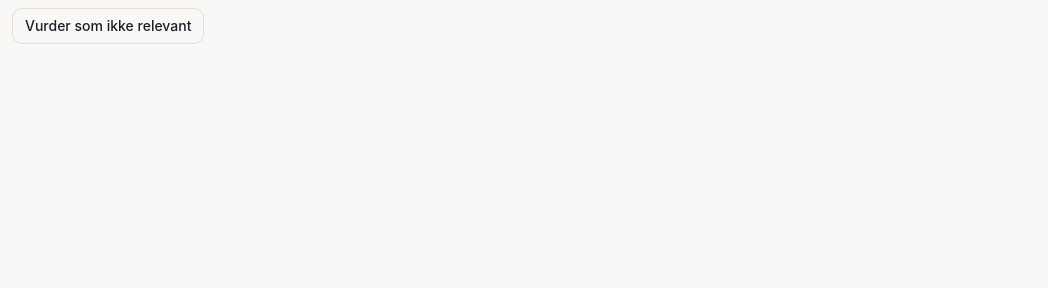
Test: Relevance assessment admin action › retains the form after an error for retry
Later steps or results of the test are not shown.
Click the button "Vurder som ikke relevant" at (108, 26), box [12,8,204,44]
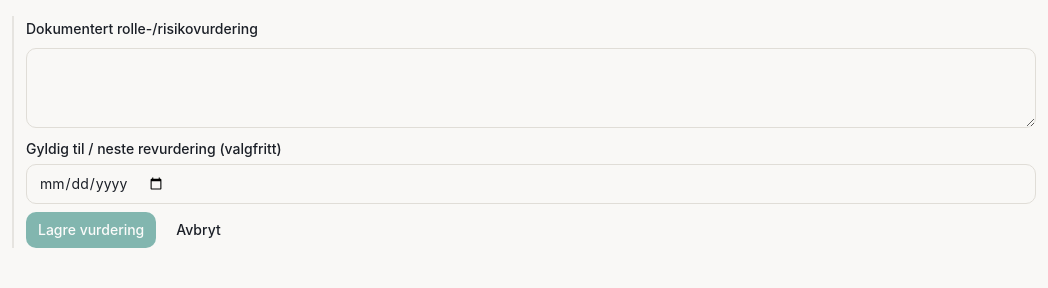
Type "Vurdering" into the text box labelled "Dokumentert rolle-/risikovurdering" at (531, 88), box [26,48,1036,128]
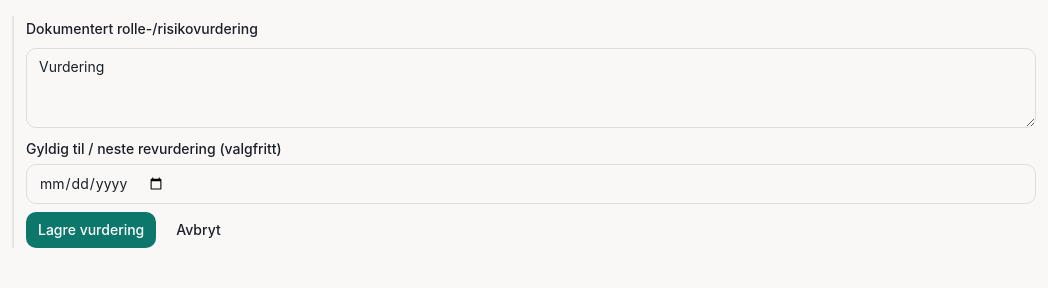
Click the button "Lagre vurdering" at (91, 230), box [26,212,156,248]
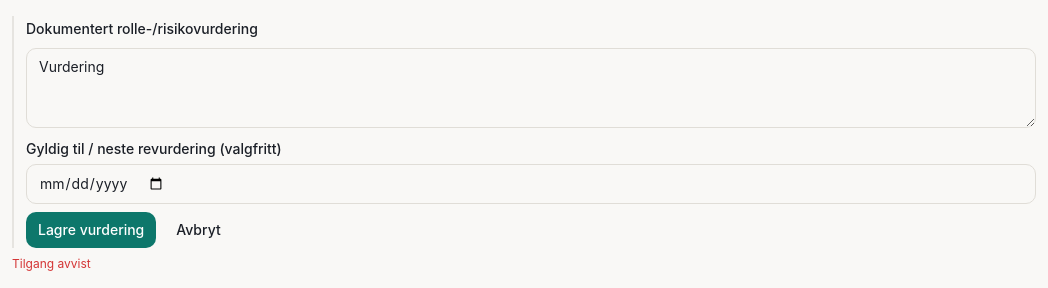
Now the message "Tilgang avvist" is shown, box [12,256,91,271]
